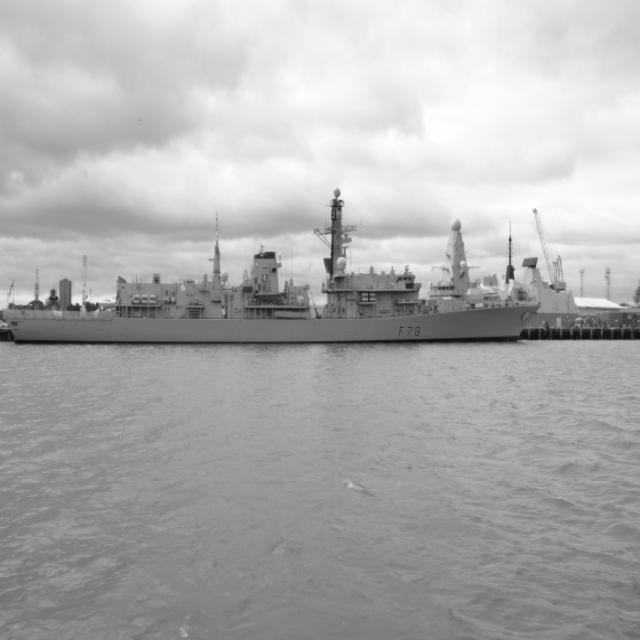Fragata: (1, 225, 542, 351)
